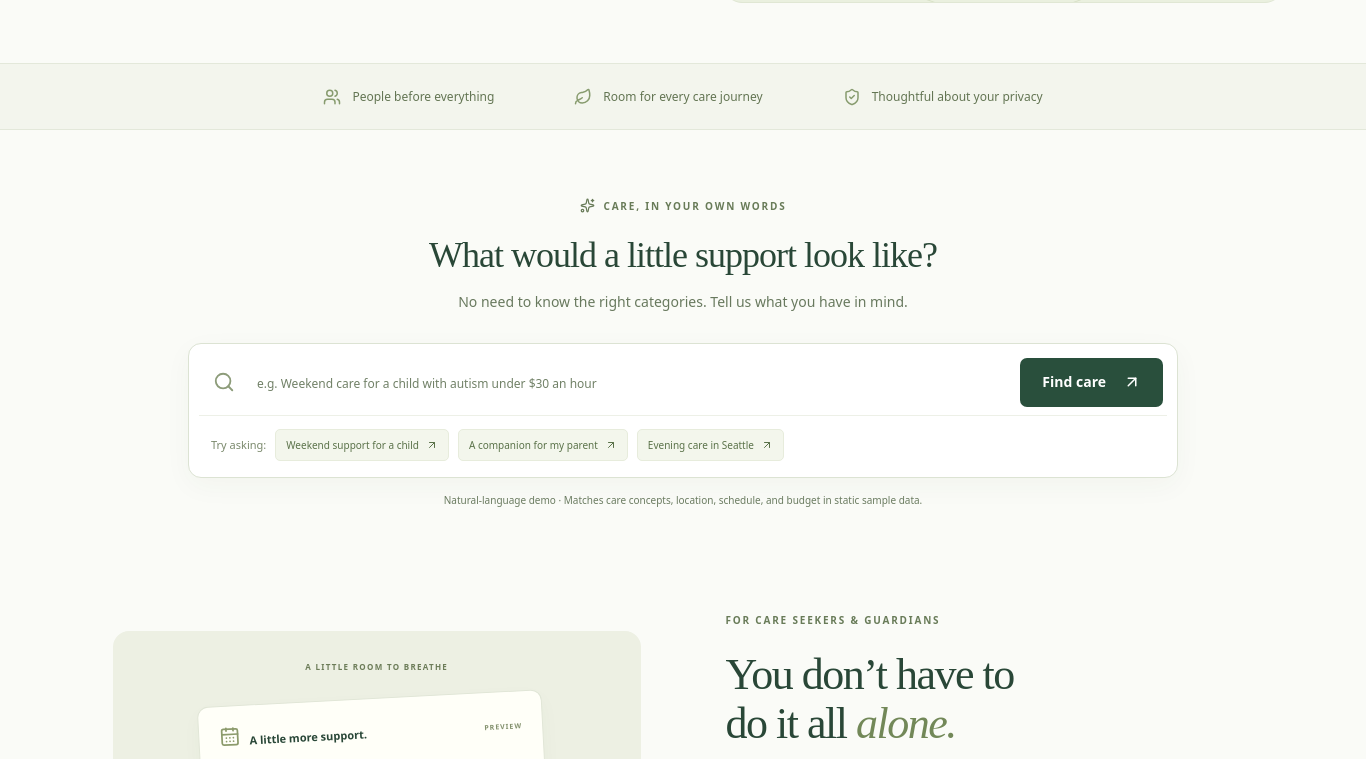
Scenario: public home and shared auth entry points › searches static care profiles using a natural-language request
(page scrolled)
In the search field named "Describe the care you need": (630, 382) 252,358 -> 1007,406, type "Weekend care for a child with autism under $30 an hour"
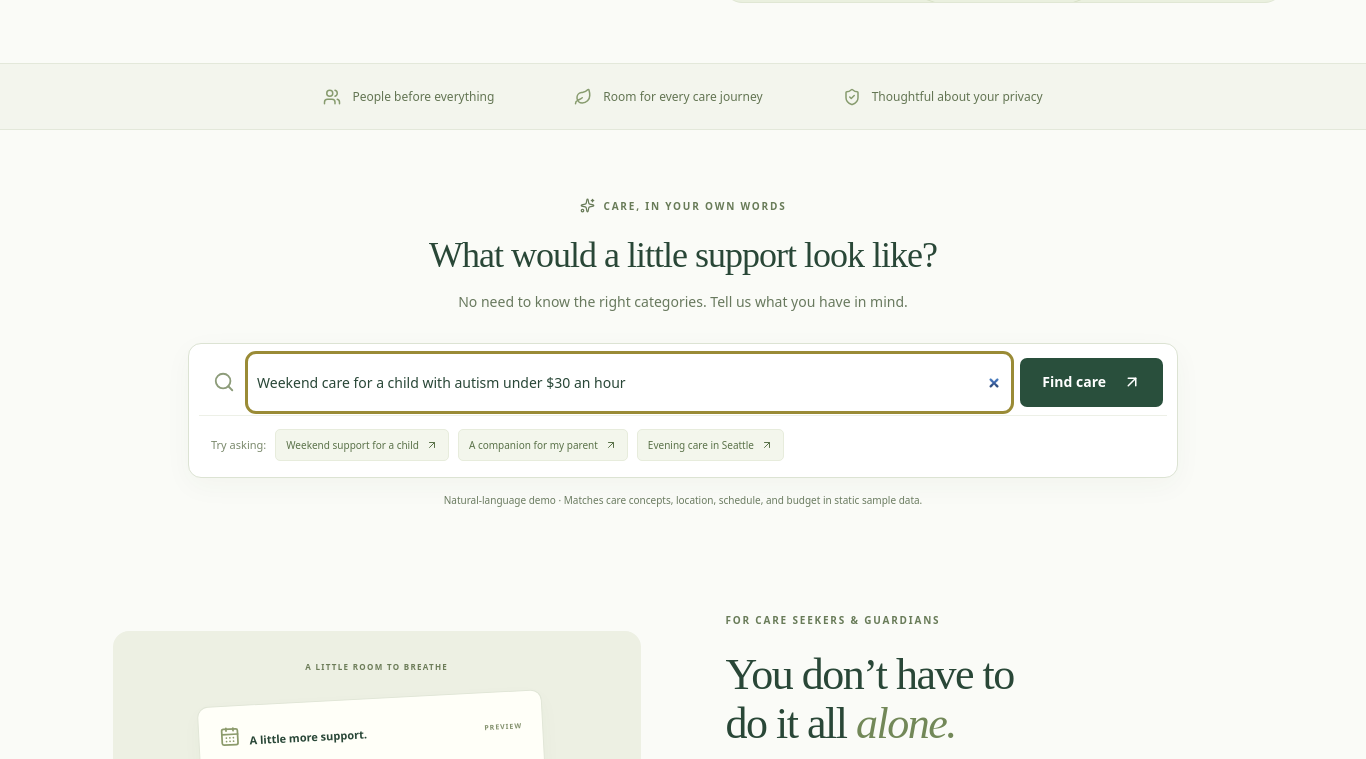
Click the button "Find care": (1092, 382) 1020,358 -> 1163,406
(page scrolled)
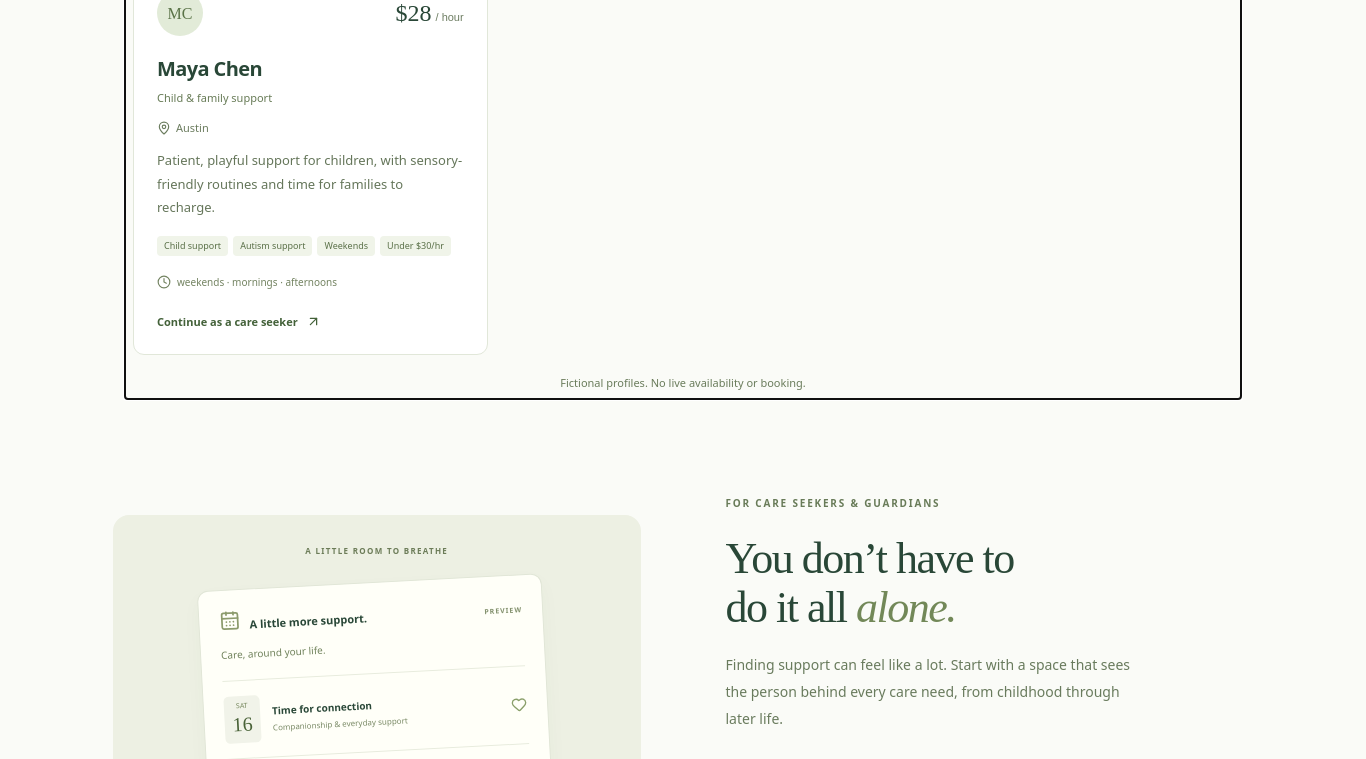
expect the heading "Maya Chen" is shown: met, box 157,53 -> 262,85
expect the text "Fictional profiles. No live availability or booking." is shown: met, box 560,375 -> 806,390
